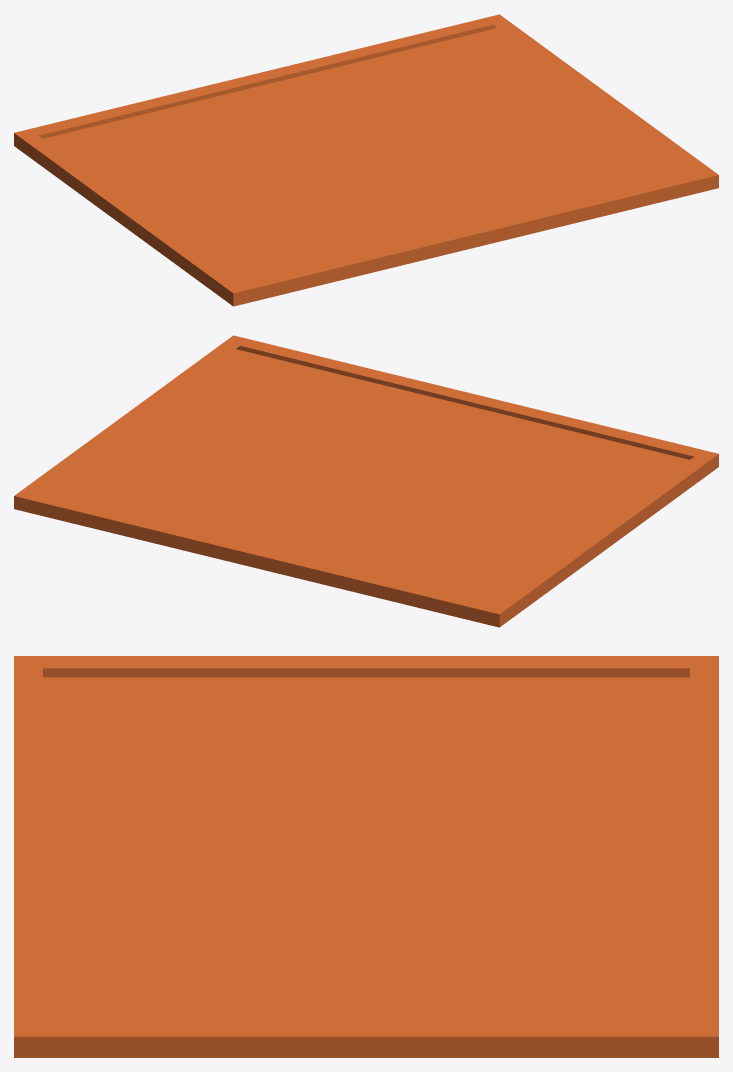
Rendered from BottomFloor2.fbx.
3 renders of one model, top to bottom at view 1: azimuth 30°, elevation 25°; view 2: azimuth 150°, elevation 25°; view 3: azimuth 270°, elevation 25°, orthographic. The views are drawn at different scales.
Parts seen in each view (by area): view 1: Walls.001; view 2: Walls.001; view 3: Walls.001.
Part boxes in pixels (left/top/right/bottom): Walls.001: left=14, top=14, right=718, bottom=306; Walls.001: left=14, top=335, right=718, bottom=627; Walls.001: left=14, top=656, right=718, bottom=1057.
Size of the model in its own units: 1871 by 48.4 by 1464.
